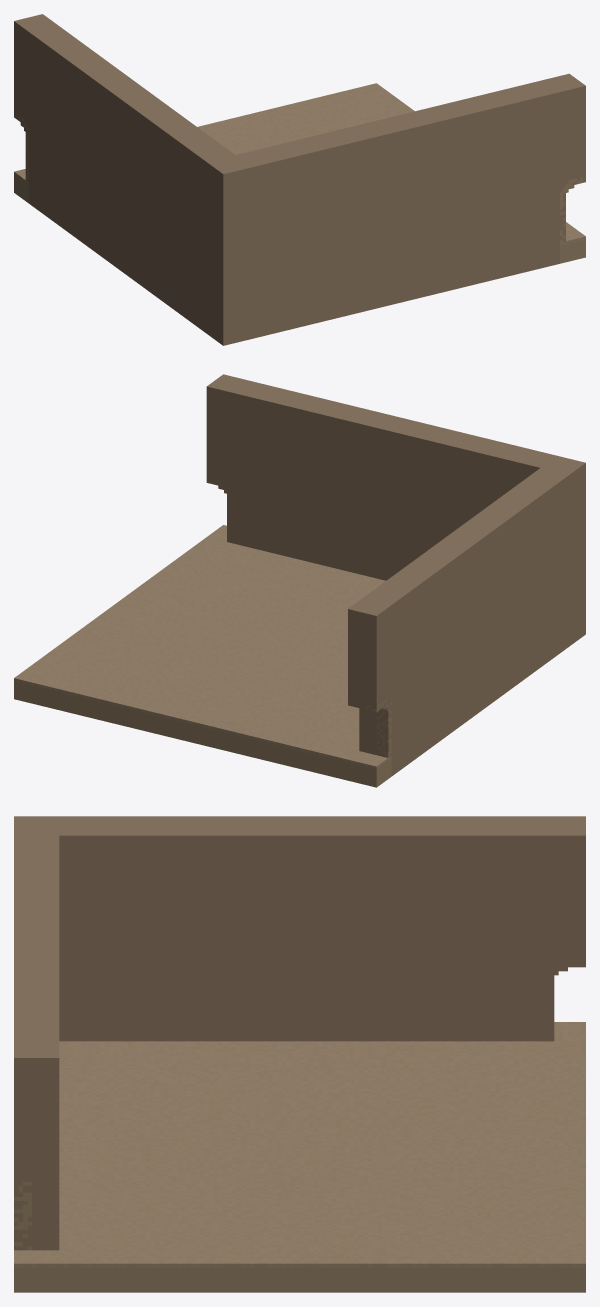
The model's file is PlcehldRoom2-3.obj.
The picture shows the model from 3 angles, top to bottom: view 1: azimuth 30°, elevation 25°; view 2: azimuth 150°, elevation 25°; view 3: azimuth 270°, elevation 25°; orthographic projection. The views are drawn at different scales.
Bounding box in the file's own units: 12.6 × 5.7 × 12.6.
Materials: 1 (1 with a texture image).
